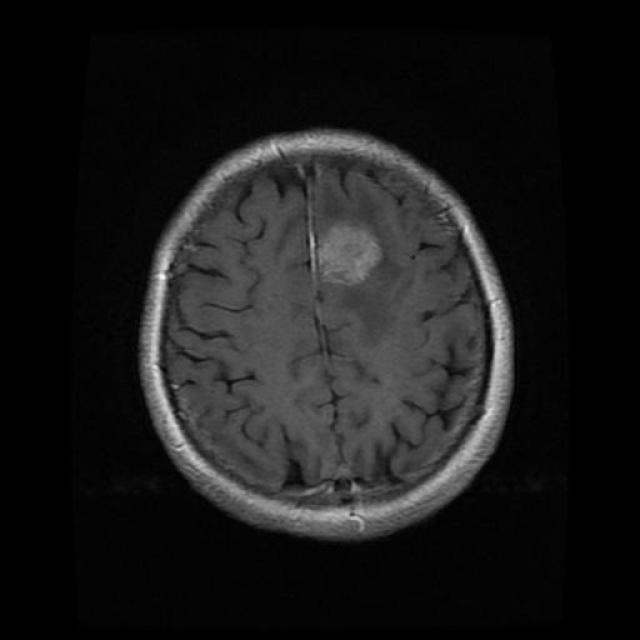Brain-Tumor: (307, 216, 397, 299)
